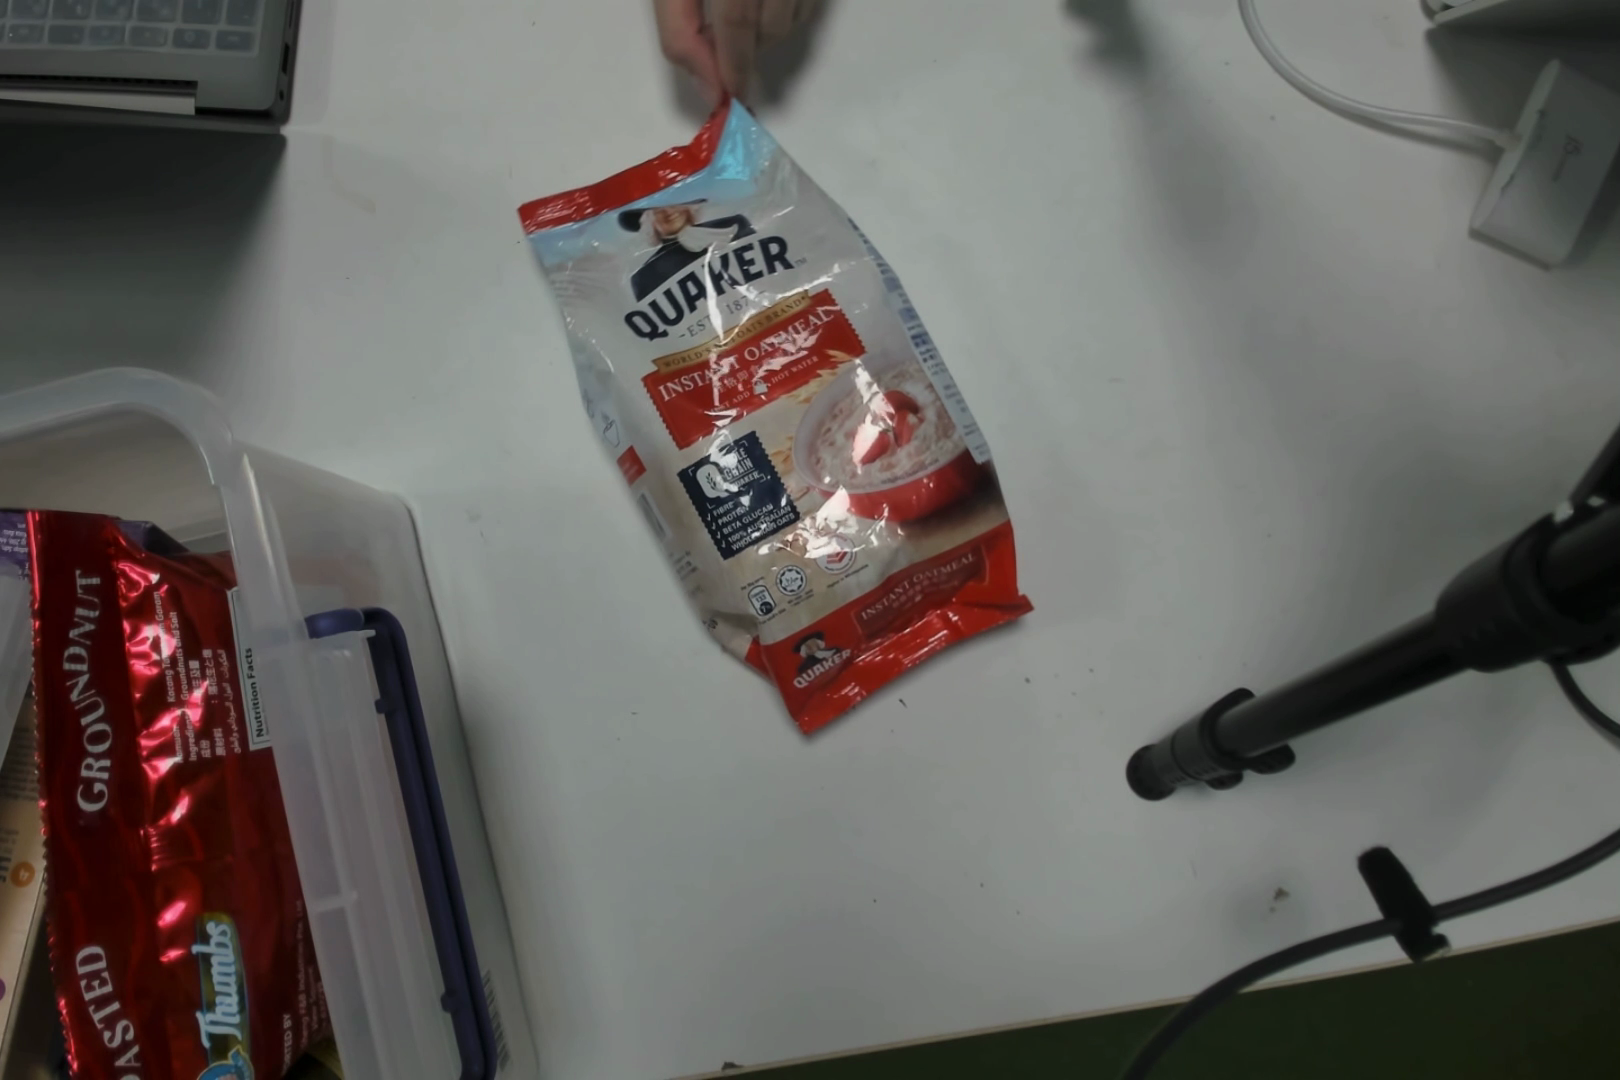RolledOatsInstantOatmeal_400-499g_Halal_Healthy: (581, 168, 1045, 699)
